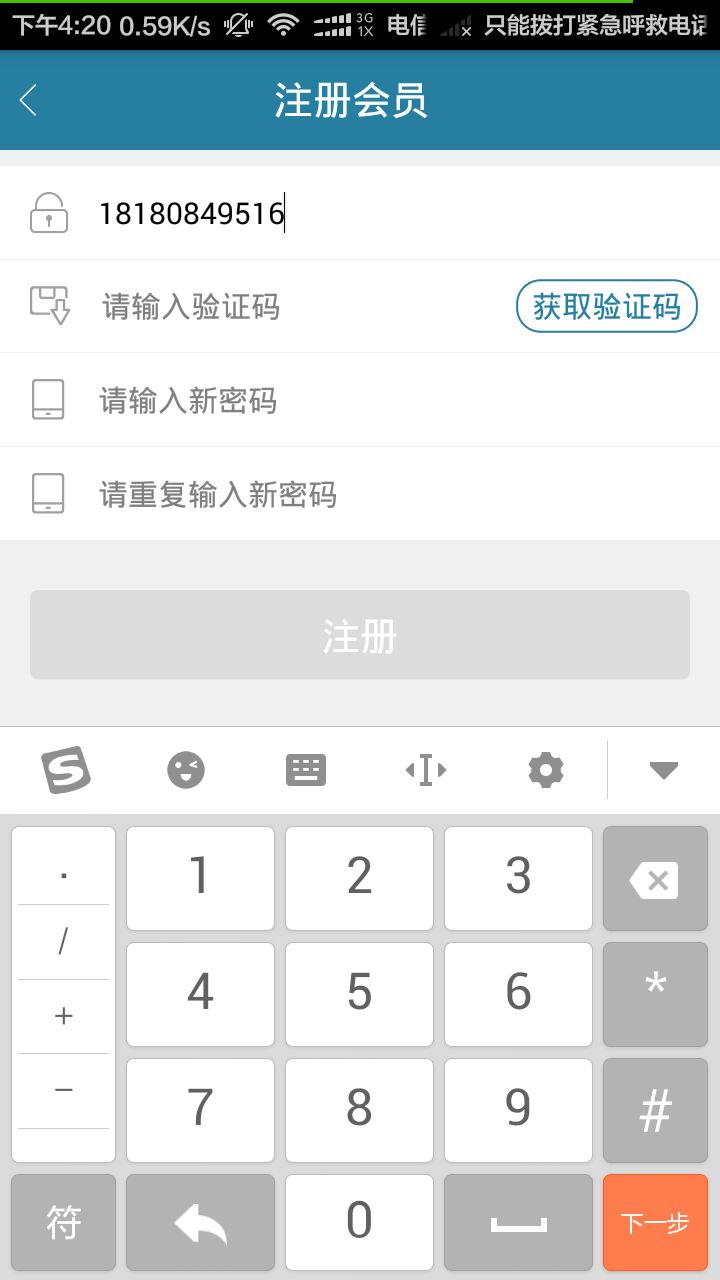button: (18, 584, 697, 680)
imgbutton: (10, 75, 52, 127)
